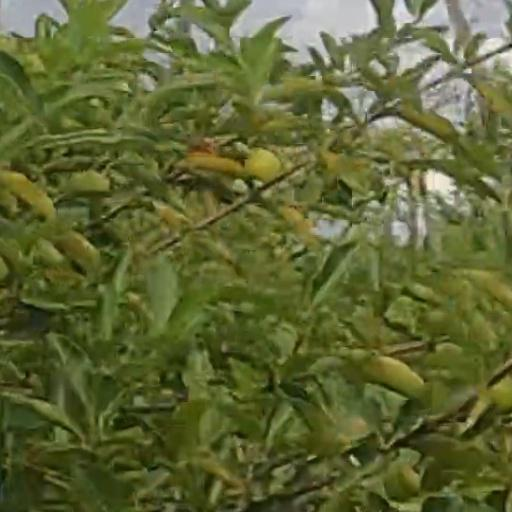acerola_verde: (386, 464, 418, 498), (244, 149, 279, 178)
